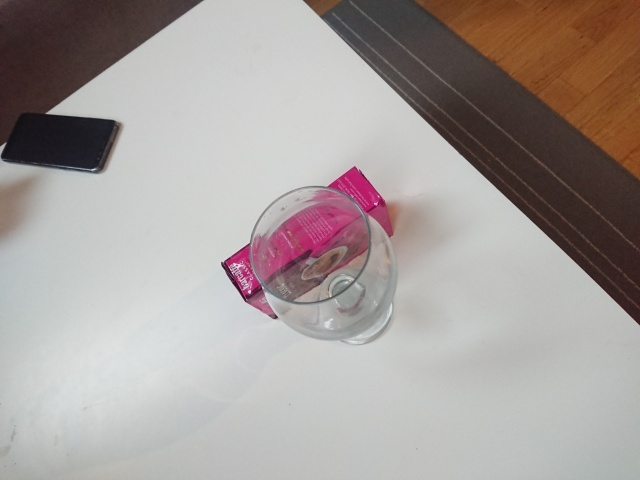Barcaffe Classic Original 225g: (219, 164, 397, 321)
